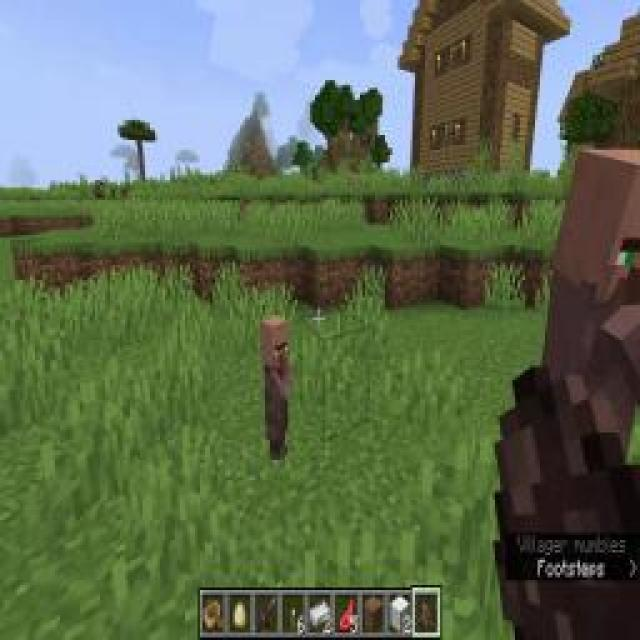Villager House: (256, 309, 299, 469)
